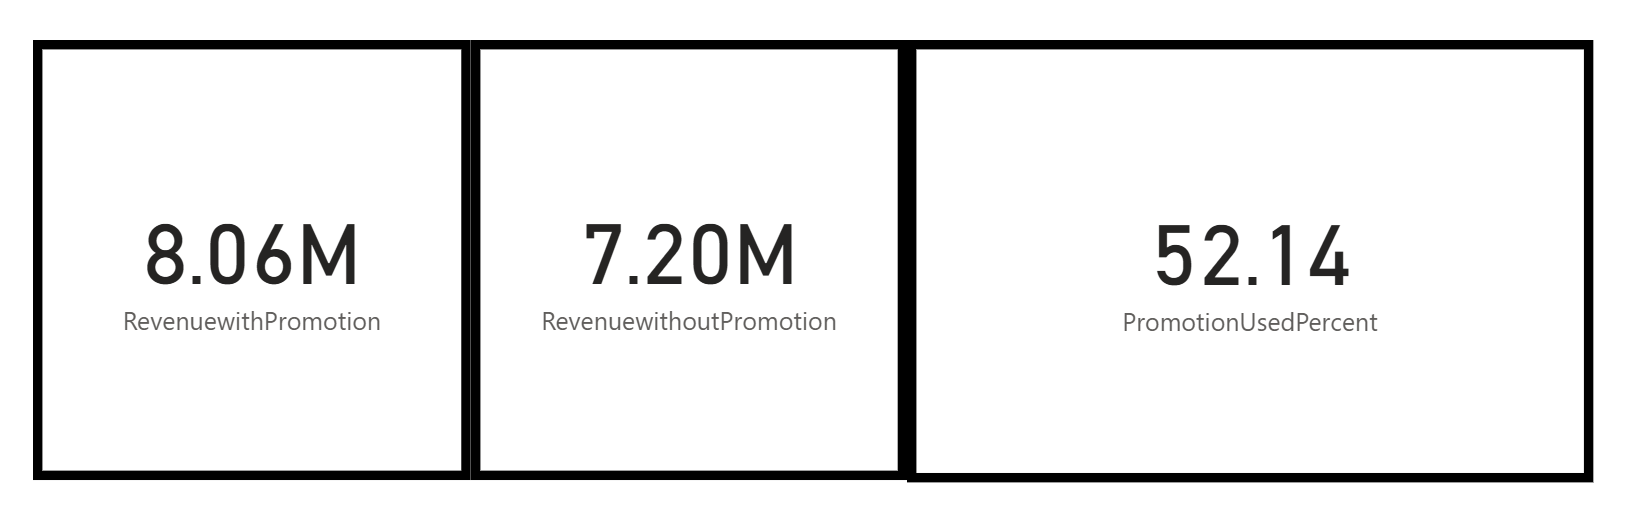

What the dashboard file says about the page in this screenshot:
{"tool":"powerbi","page":{"name":"CARDS","canvas":[1280,720],"ordinal":0},"visuals":[{"type":"card","fields":{"Values":["Walmart_Orders.RevenuewithoutPromotion"]},"box":[288.9,1.7,278.8,280.5],"z":0},{"type":"card","fields":{"Values":["Walmart_Orders.RevenuewithPromotion"]},"box":[10.1,1.7,278.8,280.5],"z":1000},{"type":"card","fields":{"Values":["Walmart_Orders.PromotionUsedPercent"]},"box":[567.8,0,436.7,282.2],"z":2000}]}

Visuals, with their boxes on the page's 1280x720 design canvas (x1, y1, x2, y2). These are canvas units, not pixel positions in the 1643x521 screenshot, which may show the page scaled, cropped or inside an application window:
card - Walmart_Orders.RevenuewithoutPromotion: 289 2 568 282
card - Walmart_Orders.RevenuewithPromotion: 10 2 289 282
card - Walmart_Orders.PromotionUsedPercent: 568 0 1004 282
